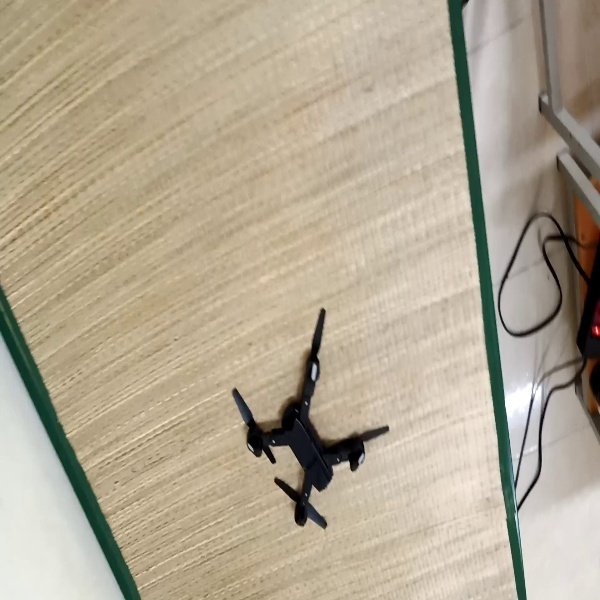drone: (228, 303, 392, 531)
